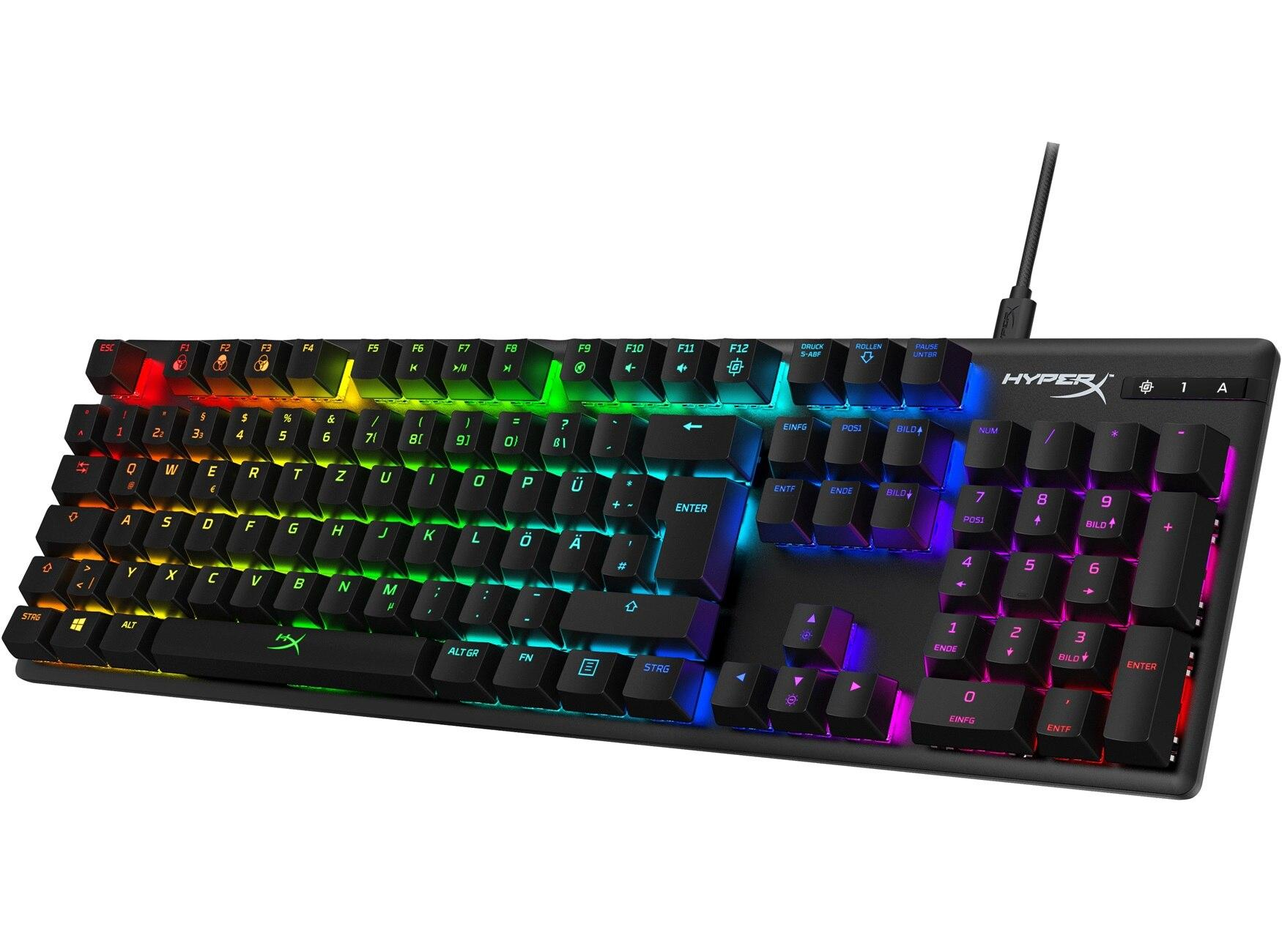0: (489, 406, 533, 455)
1: (952, 481, 1001, 532), (101, 401, 137, 442)
2: (140, 401, 177, 444)
3: (180, 403, 217, 447)
4: (222, 402, 259, 447)
5: (264, 403, 303, 449)
6: (307, 403, 347, 450)
7: (351, 404, 388, 452)
8: (396, 405, 436, 454)
9: (441, 406, 483, 454)
a: (102, 507, 139, 546)
accent: (588, 407, 631, 457)
ae: (548, 528, 595, 571)
alt-left: (98, 612, 149, 652)
altgr-right: (429, 638, 489, 680)
b: (271, 569, 316, 609)
c: (187, 565, 229, 603)
caret: (64, 403, 98, 442)
comma: (408, 577, 456, 620)
d: (183, 511, 221, 550)
del: (641, 410, 735, 457)
e: (188, 455, 226, 499)
enter: (653, 471, 727, 579)
f: (226, 512, 264, 552)
g: (269, 515, 308, 555)
h: (312, 516, 353, 557)
hash: (600, 530, 647, 578)
i: (407, 463, 447, 506)
j: (357, 518, 399, 560)
k: (403, 521, 446, 562)
keyboard: (5, 327, 1277, 805)
l: (451, 522, 494, 565)
less: (64, 556, 105, 595)
m: (362, 576, 407, 617)
minus: (506, 584, 554, 628)
n: (317, 572, 360, 612)
o: (453, 466, 494, 509)
oe: (999, 549, 1052, 598), (499, 526, 543, 569)
p: (502, 467, 544, 511)
plus: (602, 469, 646, 516)
point: (456, 581, 505, 623)
q: (108, 453, 145, 494)
r: (230, 458, 269, 500)
s: (141, 508, 181, 548)
shift-left: (17, 554, 67, 592)
shift-lock: (34, 504, 101, 542)
shift-right: (557, 589, 698, 636)
space: (149, 619, 425, 678)
ss: (1012, 483, 1066, 535), (538, 407, 582, 456)
strg-left: (1, 604, 51, 641)
strg-right: (620, 653, 684, 698)
t: (274, 460, 311, 502)
tab: (51, 452, 105, 491)
u: (361, 462, 401, 505)
ue: (551, 469, 595, 515)
v: (229, 568, 270, 606)
w: (149, 455, 184, 496)
x: (145, 562, 185, 602)
y: (105, 559, 145, 598)
z: (316, 461, 355, 502)
